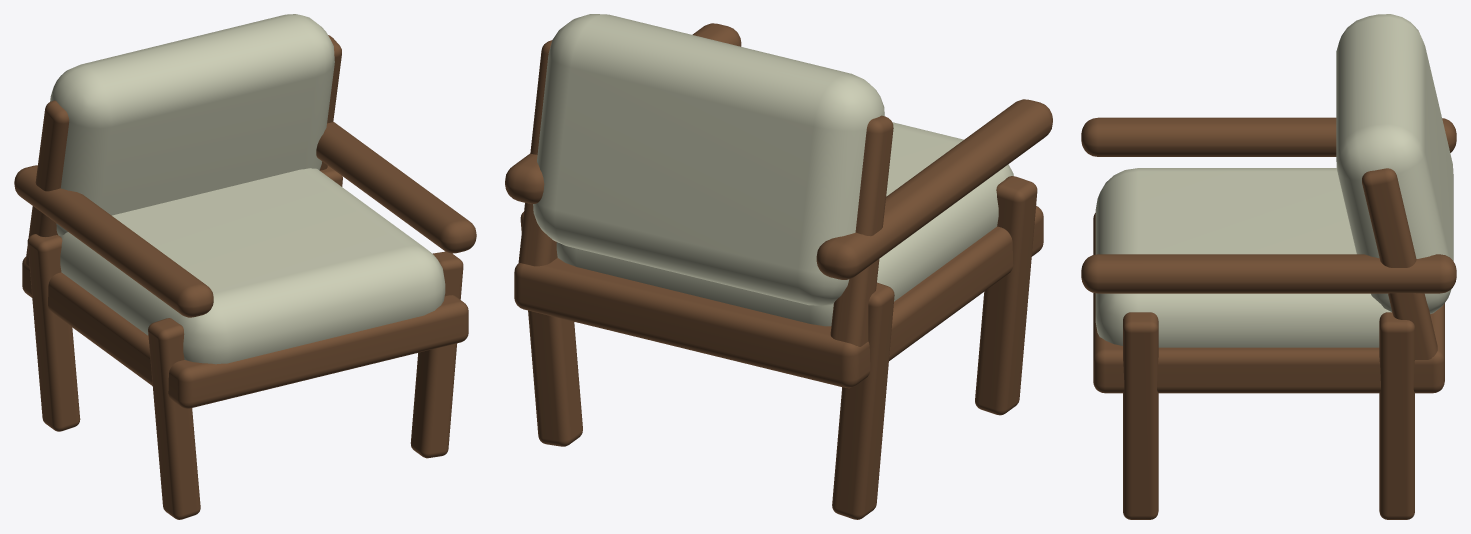
Rendered from chair.glb.
3 renders of one model, left to right at view 1: azimuth 30°, elevation 25°; view 2: azimuth 150°, elevation 25°; view 3: azimuth 270°, elevation 25°, orthographic. The views are drawn at different scales.
Visible parts, largest first — view 1: Curved back cushion, Back support; view 2: Curved back cushion, Back support; view 3: Back support, Curved back cushion.
Part boxes in pixels (x1=…): Curved back cushion: x1=50, y1=14, x2=445, y2=364; Back support: x1=14, y1=35, x2=476, y2=519; Curved back cushion: x1=533, y1=14, x2=1013, y2=326; Back support: x1=505, y1=23, x2=1052, y2=519; Back support: x1=1081, y1=117, x2=1456, y2=519; Curved back cushion: x1=1095, y1=14, x2=1453, y2=347.
Size of the model in its own units: 0.7884 by 0.8841 by 0.79.
